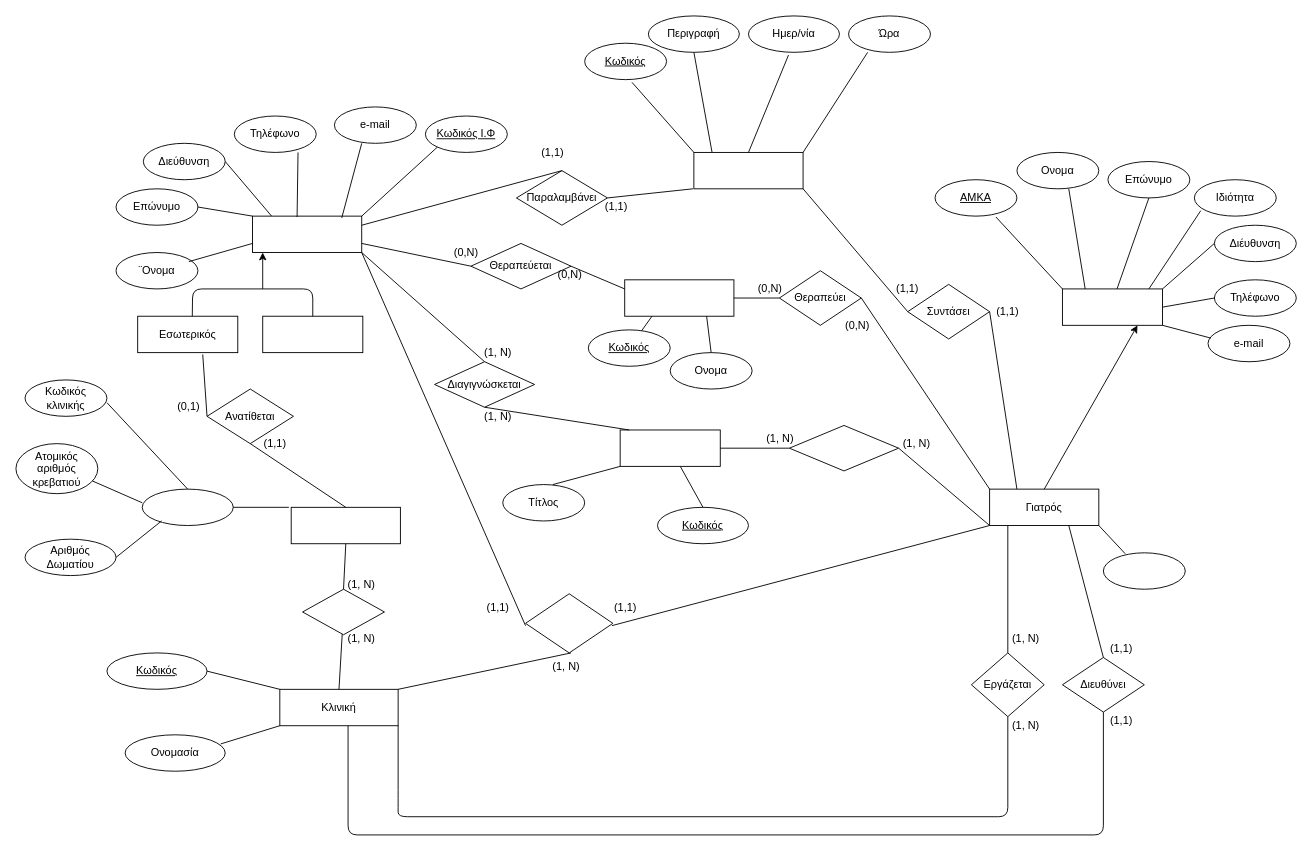
This 1312x852 diagram has some shape labels left out. The shapes that lost their labels are listed below. From the top down, each one's centre as x and y in pixels, then its label:
At pixel 748 170: "Παραπεμπτικό".
At pixel 307 234: "Ασθενής".
At pixel 679 297: "Θεραπεία".
At pixel 1112 306: "Εργαζόμενος".
At pixel 312 334: "Εξωτερικός".
At pixel 669 447: "Διάγνωση".
At pixel 844 448: "Πραγματοποιειται".
At pixel 187 507: "Αριθμός κρεβατιού".
At pixel 345 525: "Κρεβάτι".
At pixel 1143 570: "Ειδικόητα".
At pixel 343 611: "Βρίσκεται".
At pixel 569 623: "Εισάγεται".
